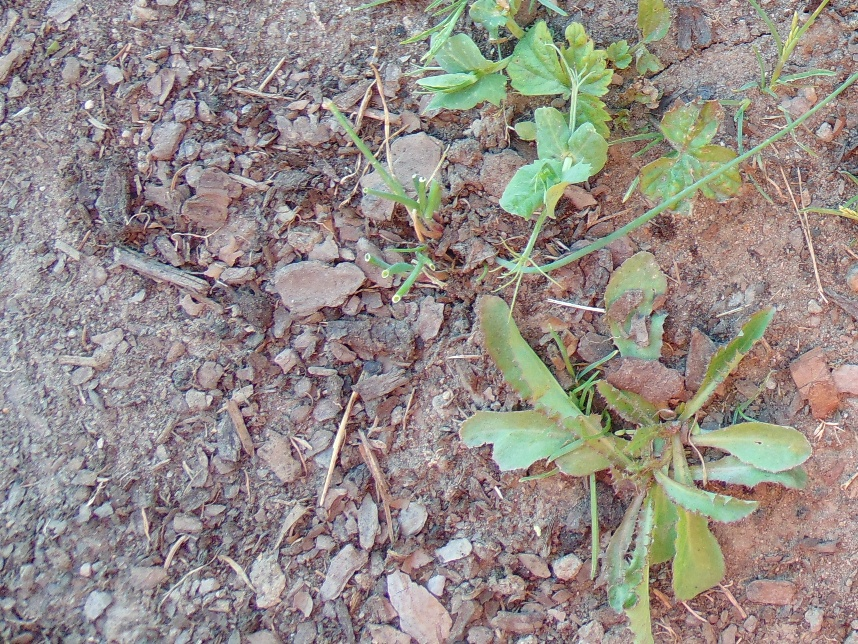crop: (492, 102, 606, 283), (412, 31, 523, 108), (550, 49, 591, 115), (467, 1, 522, 40)
weed: (465, 250, 819, 638), (507, 17, 662, 97), (638, 98, 740, 218), (584, 1, 686, 120), (357, 167, 449, 290), (741, 27, 826, 124)
